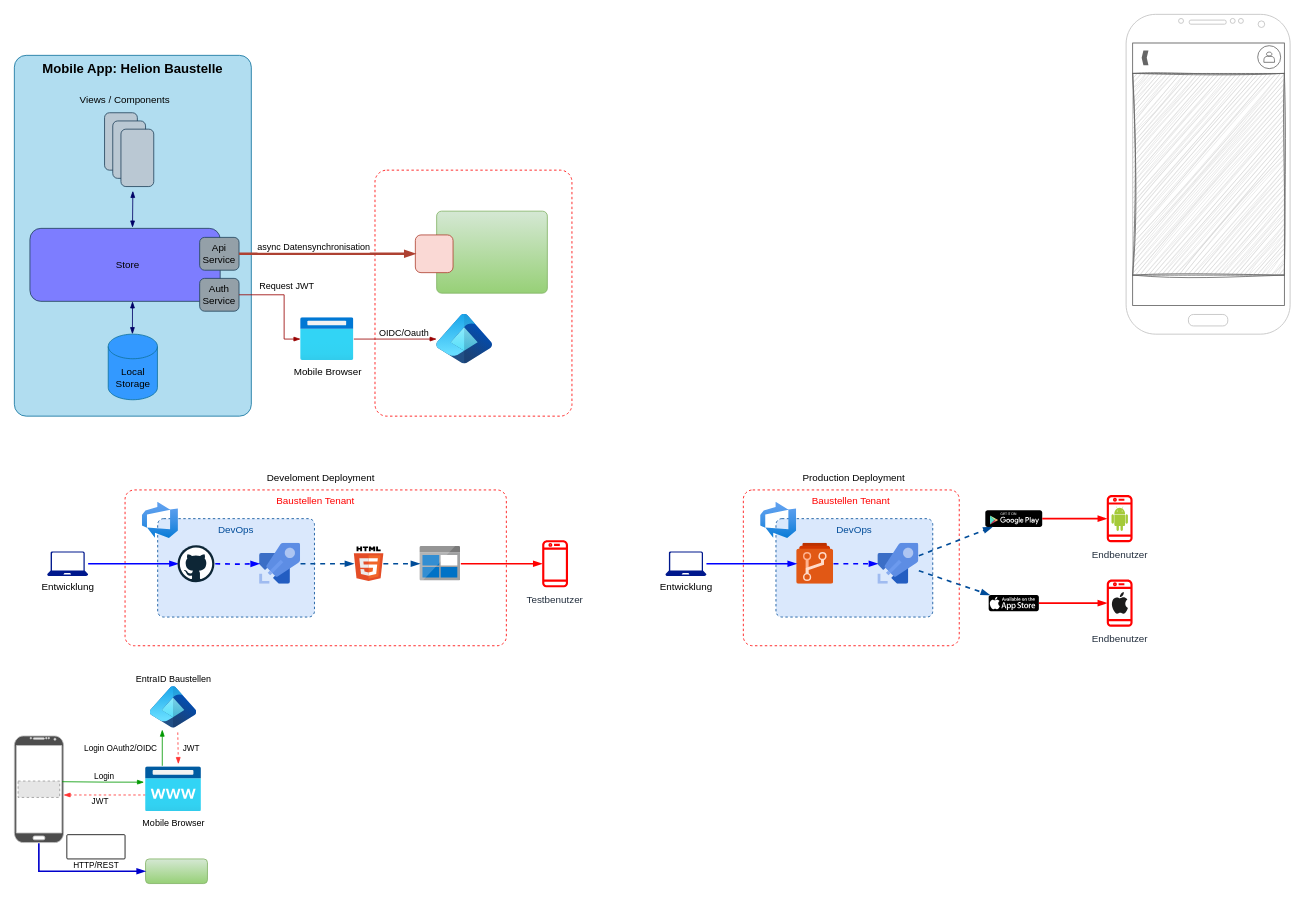
Image size: 1305x898. Some labels were removed from this diagram. Grey dashed boxes stand in for pictures. The centre of each missing label's shape, as x and y in pixels:
Authorization: Bearer <Token>: (95,846)
Baustellen API: (176,871)
Blob Storage: (439,563)
Helion Azure Tenant: (464,338)
REST API: (434,253)
THEIA Backend: (491,251)
THEIA Webview: (1208,174)
Toolbar: (1208,289)
